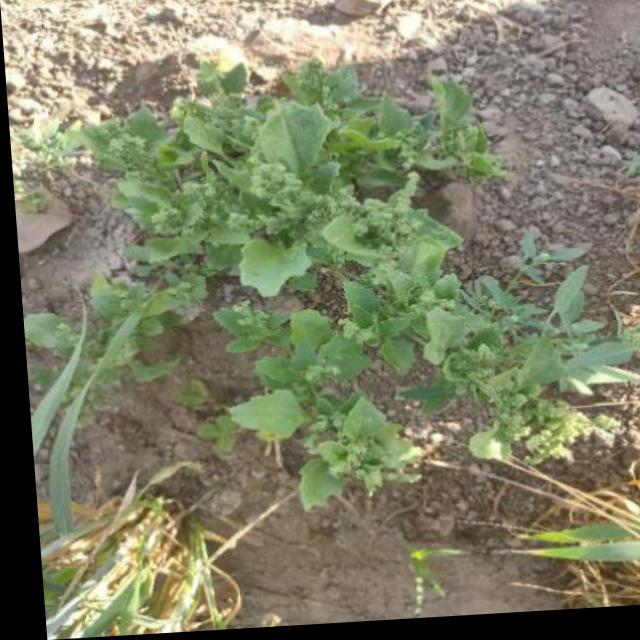crop: (64, 36, 546, 531)
